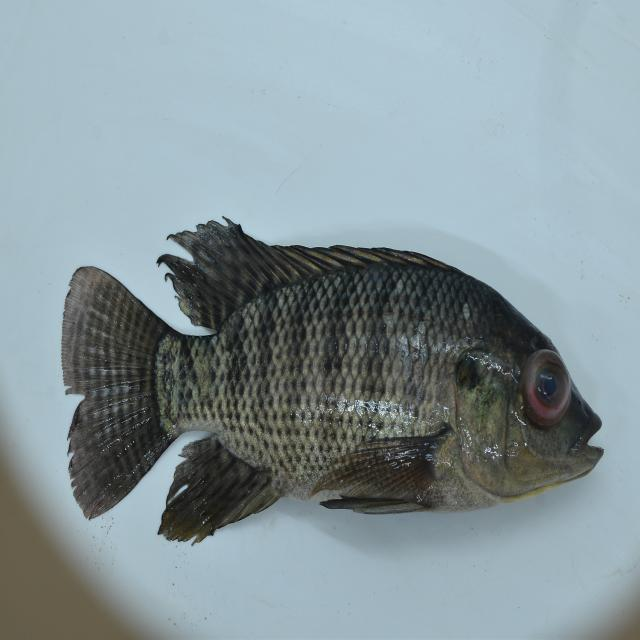streptococcus Disease: (55, 215, 606, 547)
